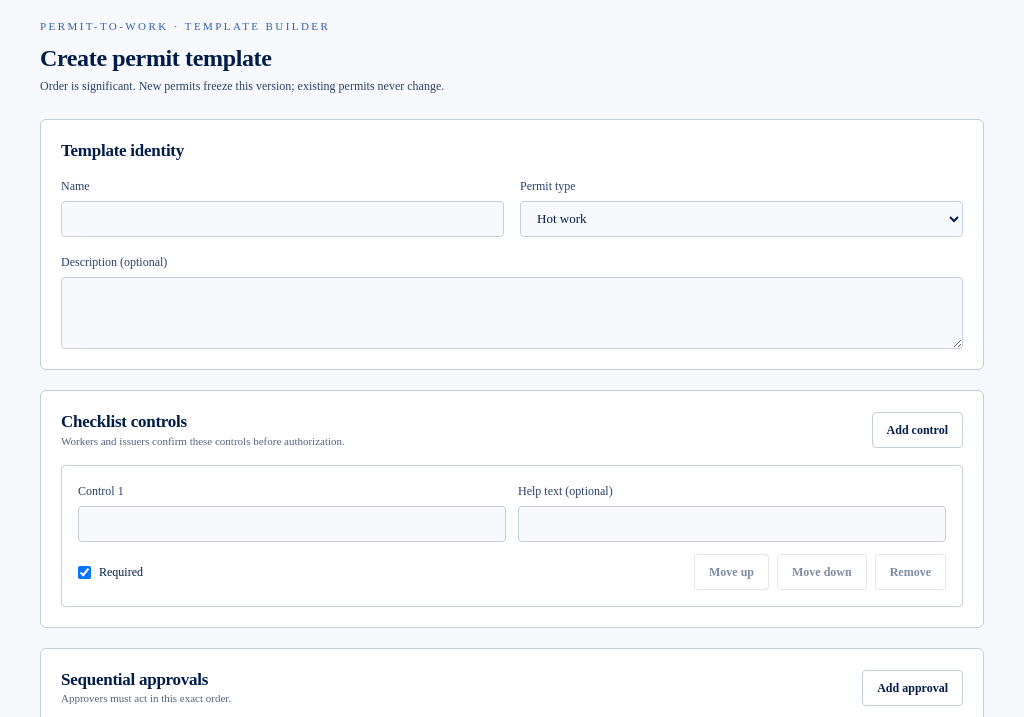
Test: permit template admin › validates checklist and approval labels before a write
Expected: the heading "Create permit template" is shown, [40,44,272,70]
Type "Valid template name" into the field labelled "Name" at point(282, 219), box [61,201,504,237]
(page scrolled)
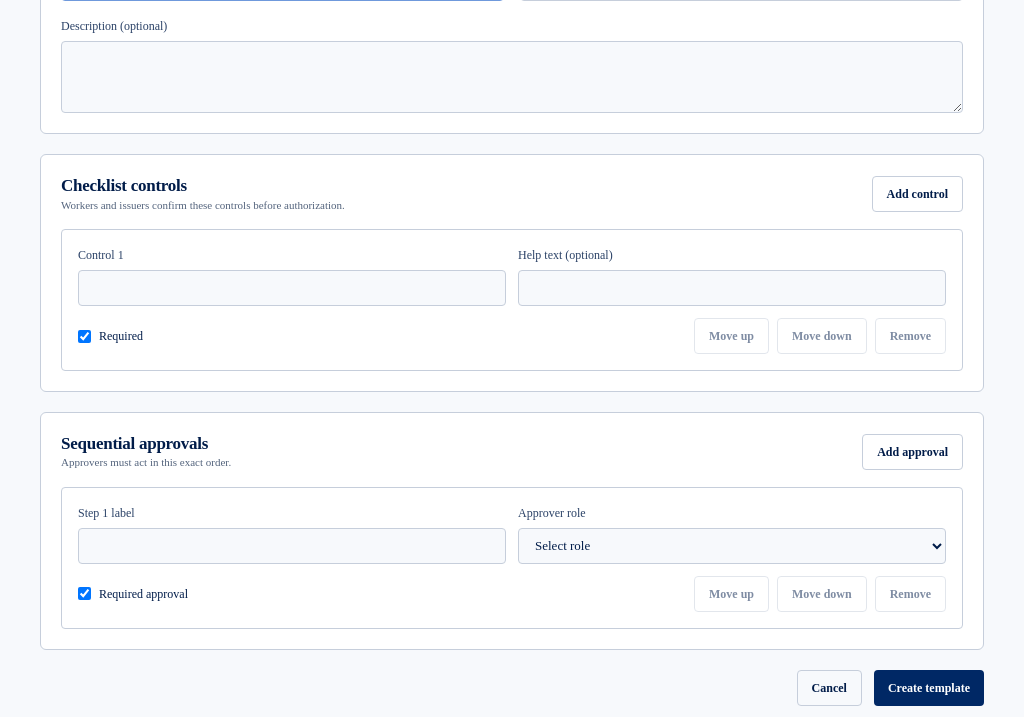
Click the button "Create template" at point(929, 688), box [874,670,984,706]
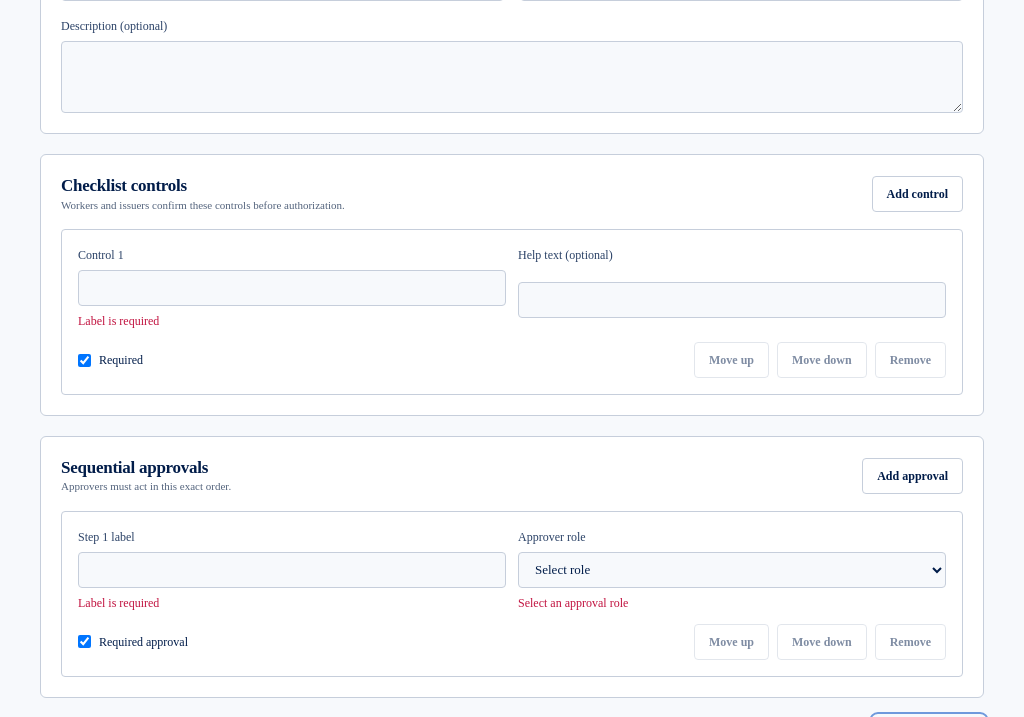
Now the text "Label is required" is shown 2 times, box [78,314,159,328]; [78,596,159,610]
